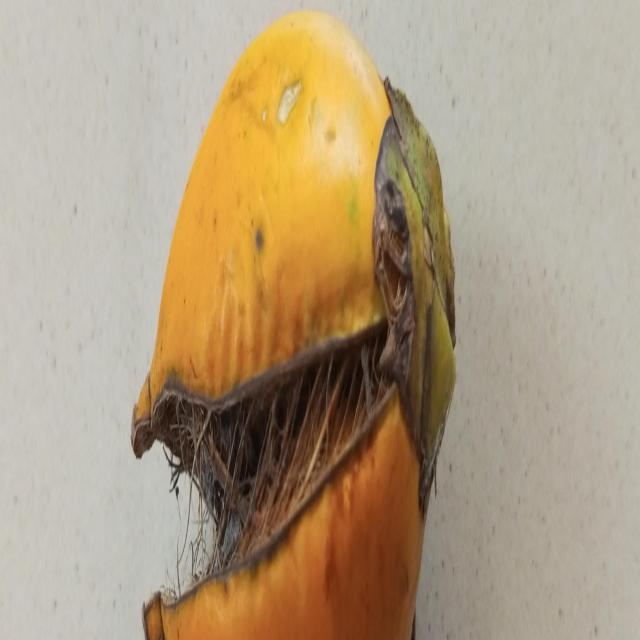damaged: (130, 10, 457, 640)
